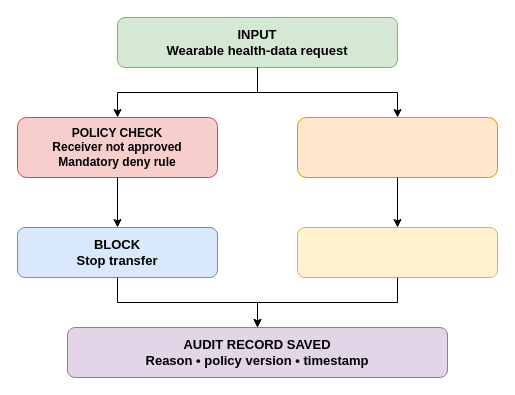
This 515x395 diagram has some shape labels left out. Here are the shapes that lost their labels. From the top down, the box of each, then its label:
(296, 116, 498, 178): AI RISK 86 / 100 Illustrative only
(296, 226, 498, 278): ALERT / REVIEW Notify owner
